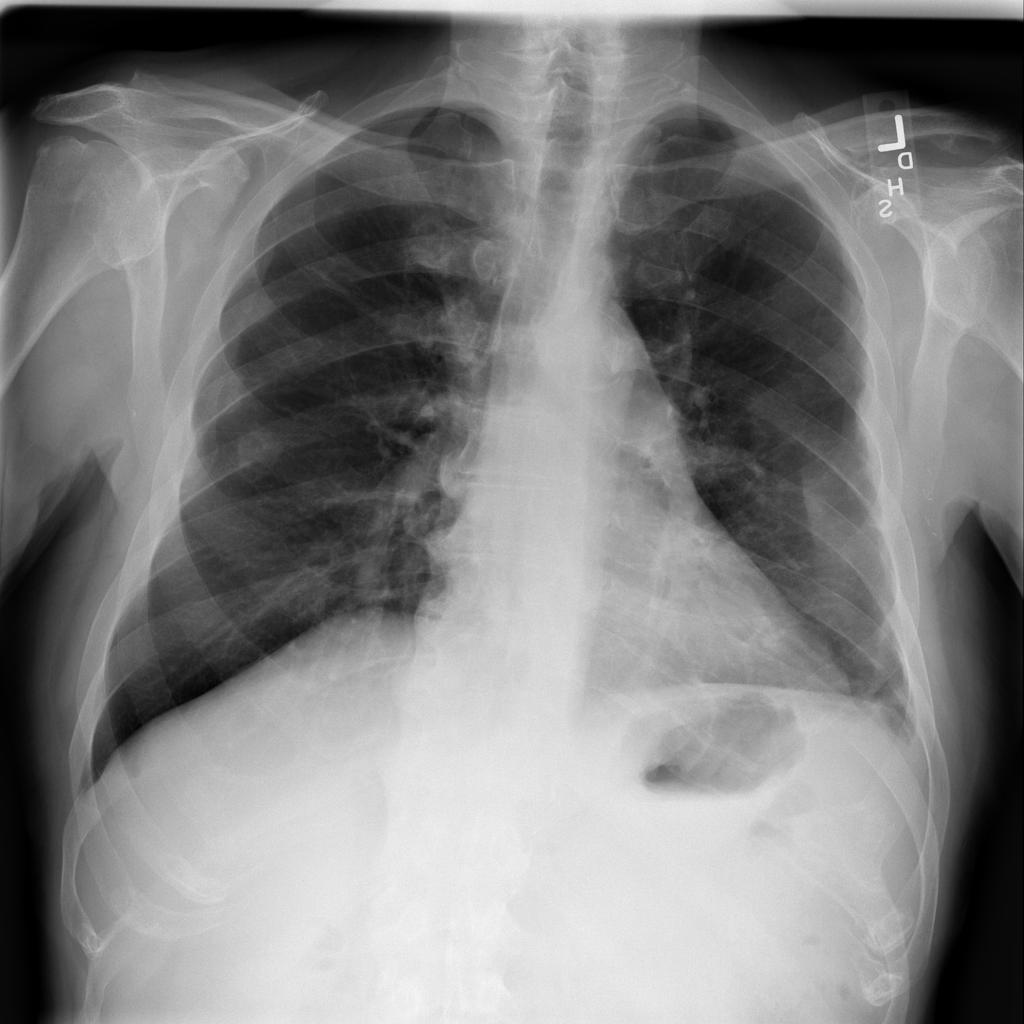nodule: (217, 411, 294, 486)
